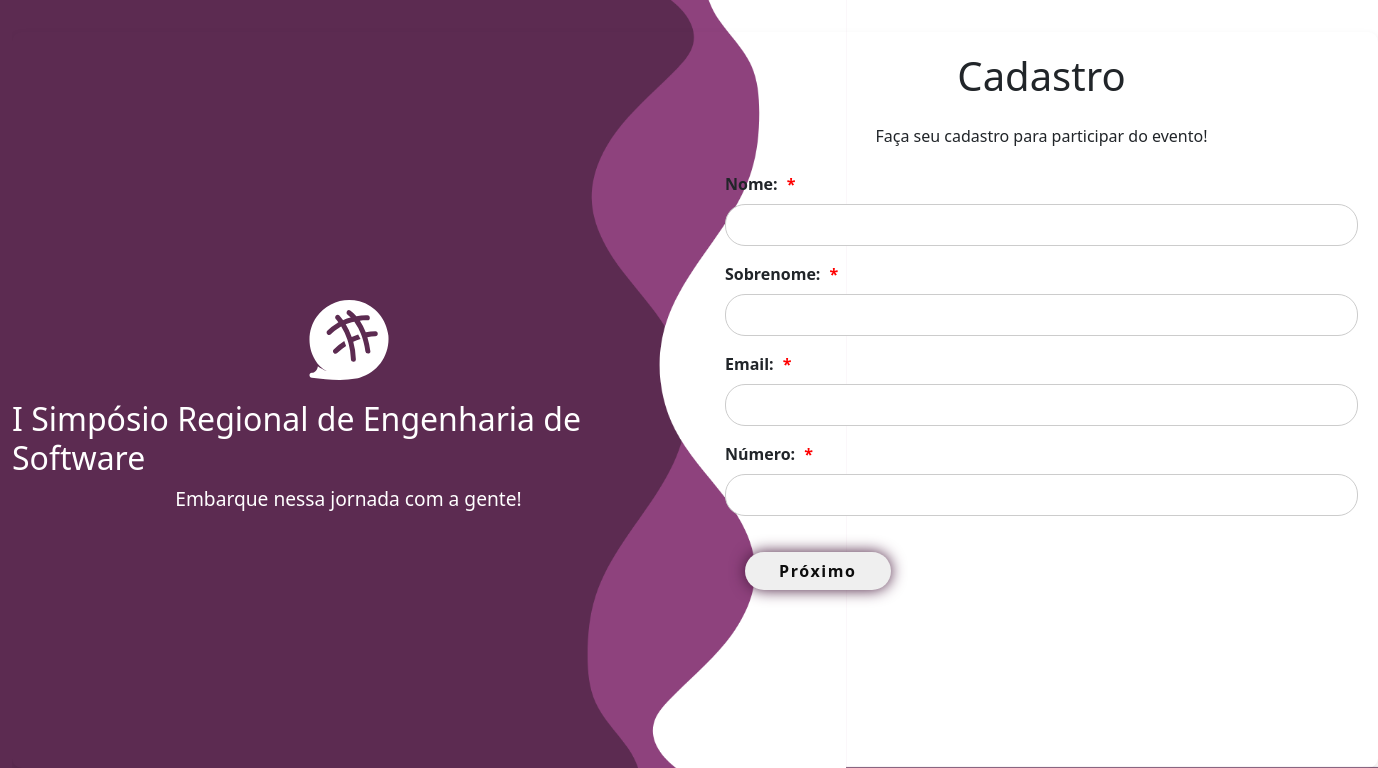
Test: Register Component › deve navegar para o segundo passo ao clicar em "Próximo" com campos válidos
In the field with test id "nome-input": (1042, 225) [725,204,1358,246], type "John"
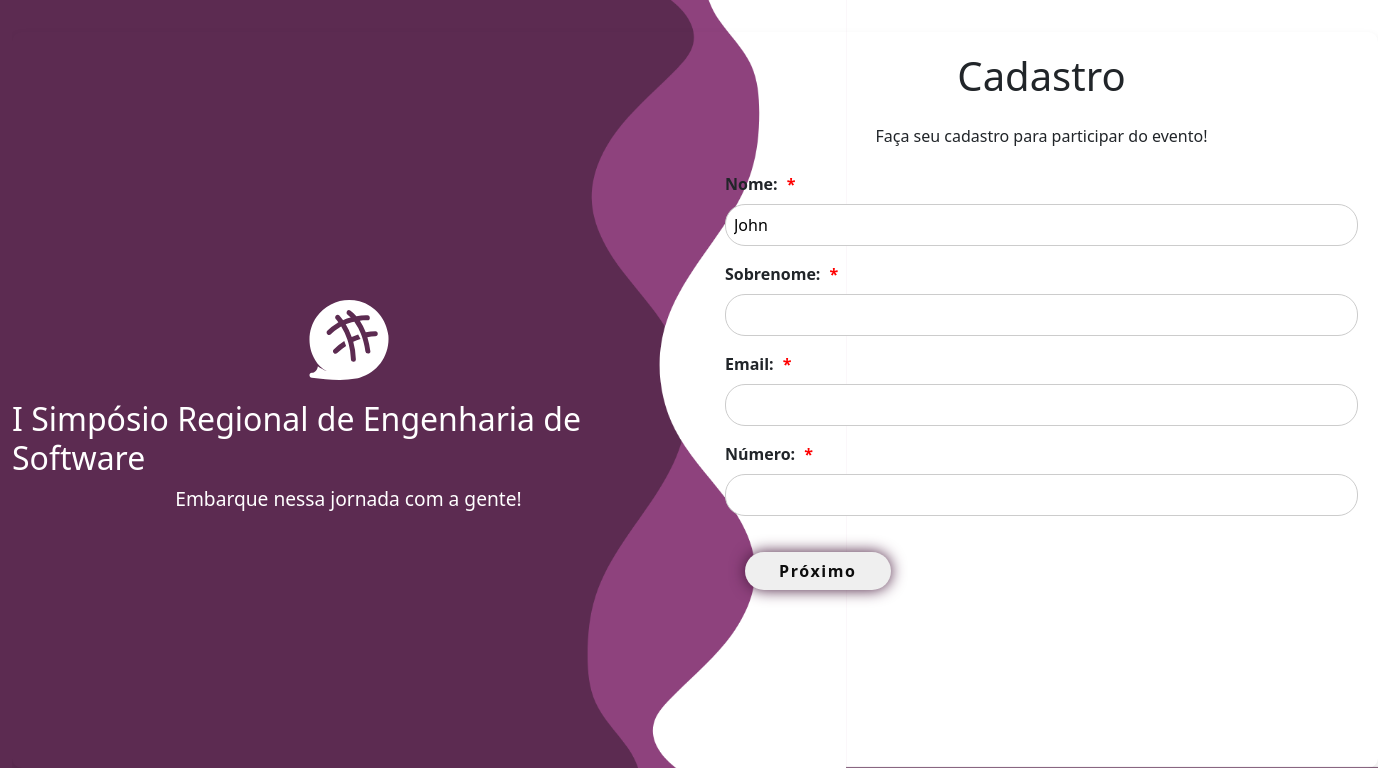
In the field with test id "sobrenome-input": (1042, 315) [725,294,1358,336], type "Doe"
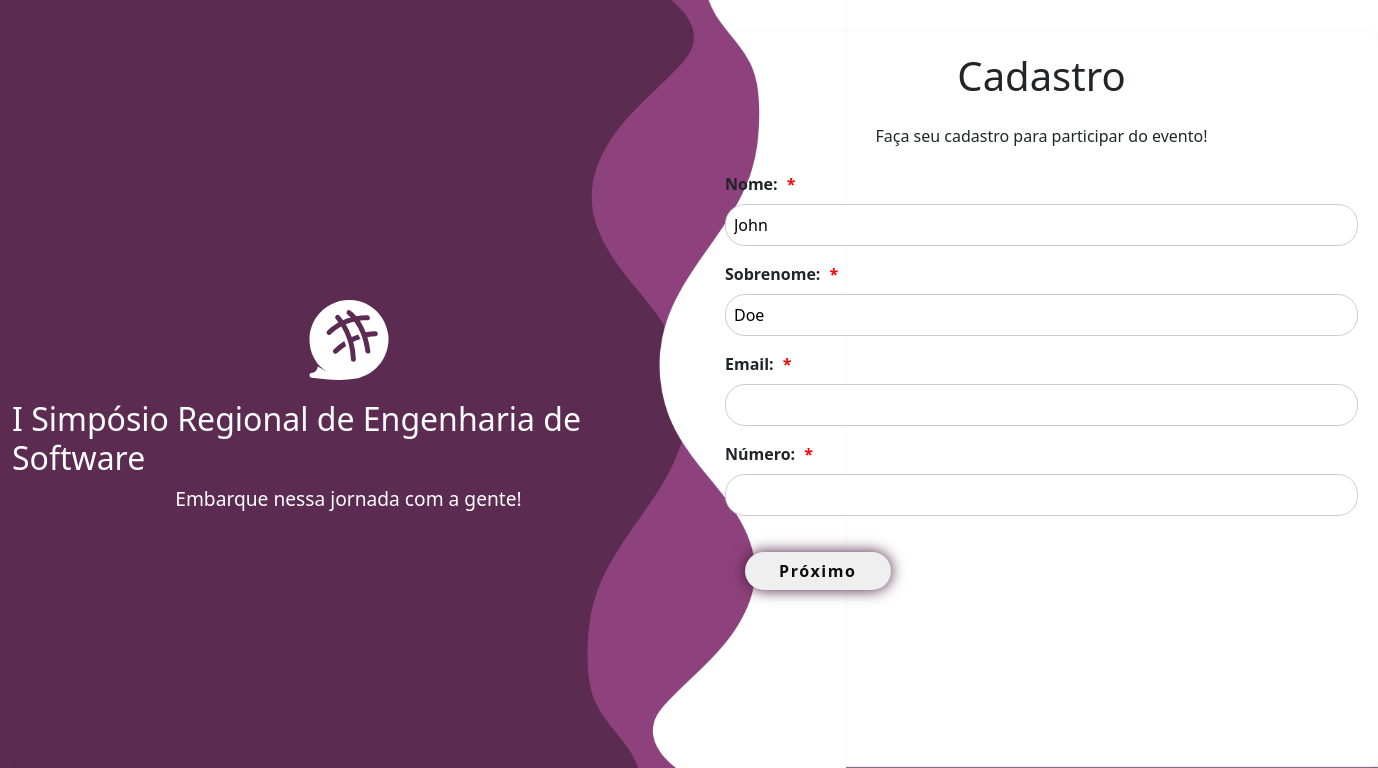
In the field with test id "email-input": (1042, 405) [725,384,1358,426], type "john@example.com"
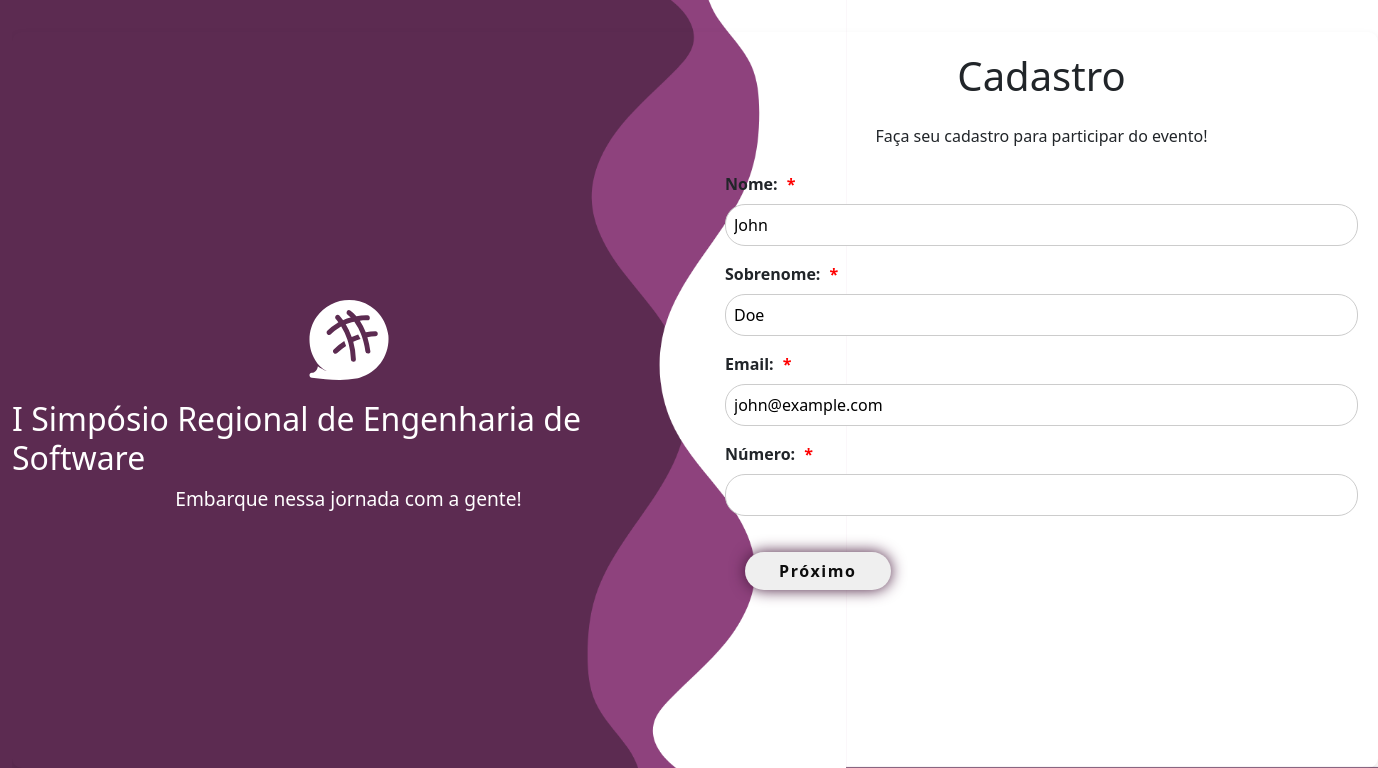
In the field with test id "numero-input": (1042, 495) [725,474,1358,516], type "123456789"
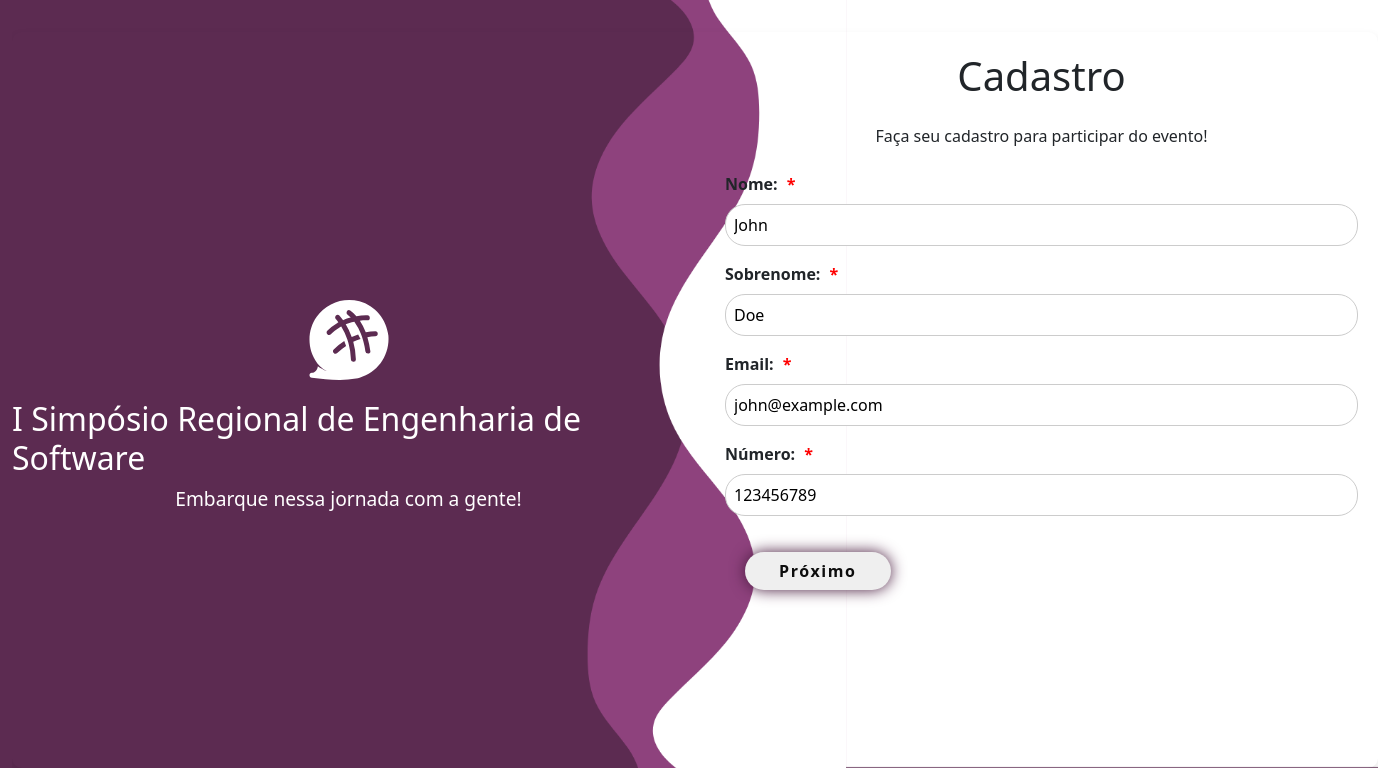
Click the button "Próximo": (818, 571) [745,552,890,590]
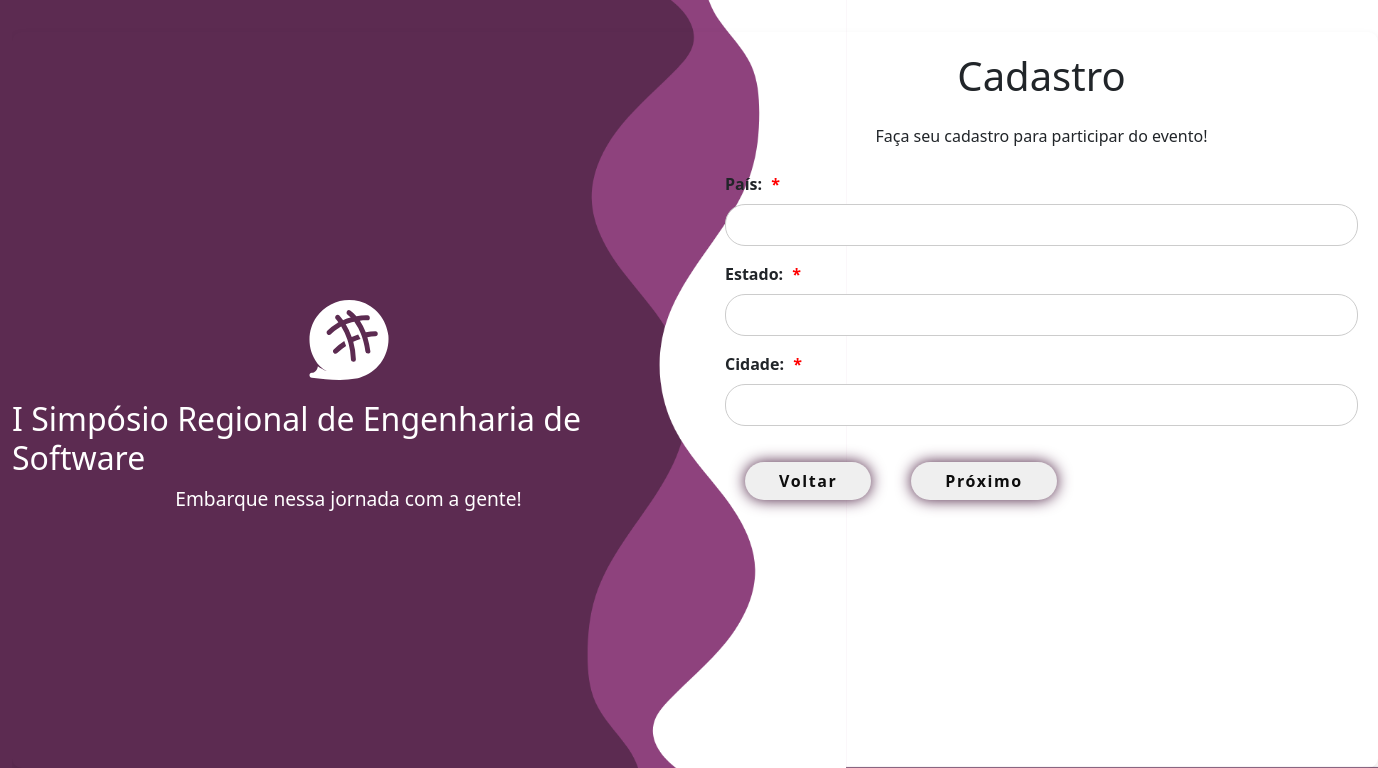
Now the field with test id "pais-input" is shown, box [725,204,1358,246]
Now the field with test id "estado-input" is shown, box [725,294,1358,336]
Now the field with test id "cidade-input" is shown, box [725,384,1358,426]
